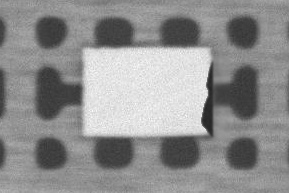DIE_BROKEN: (198, 61, 215, 137)
